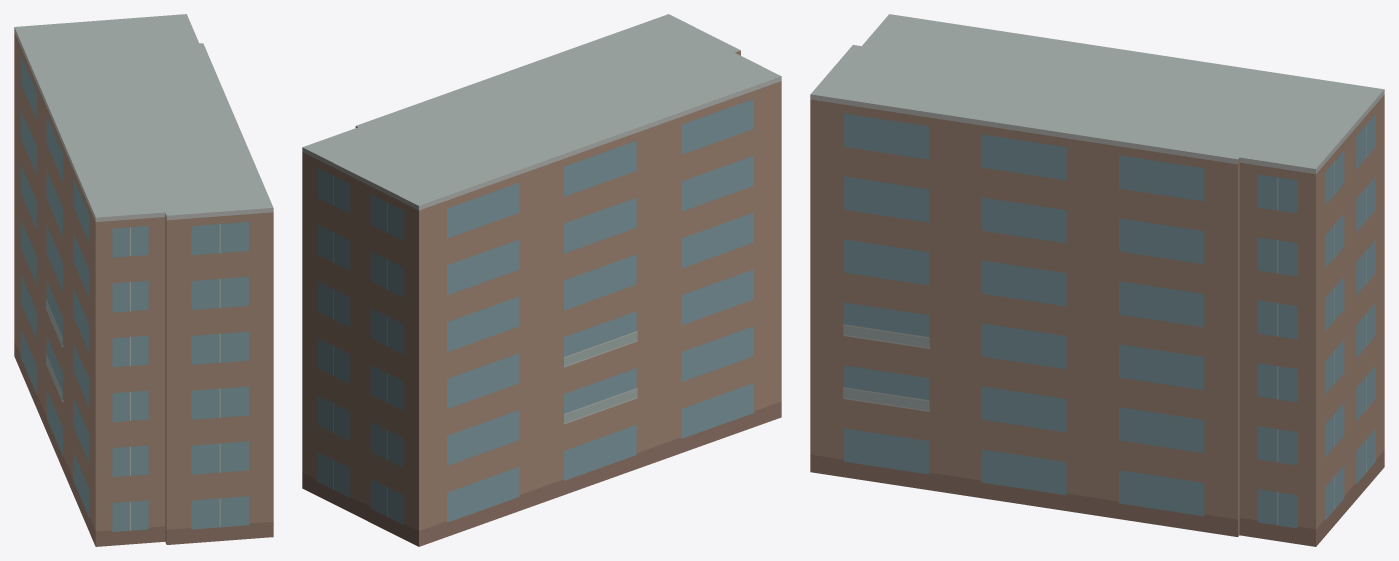
File: survey-upis-33047583.glb
3 renders of one model, left to right at view 1: azimuth 30°, elevation 25°; view 2: azimuth 150°, elevation 25°; view 3: azimuth 270°, elevation 25°, orthographic. The views are drawn at different scales.
Parts seen in each view (by area): view 1: survey-upis-33047583.tmp; view 2: survey-upis-33047583.tmp; view 3: survey-upis-33047583.tmp.
Part boxes in pixels (x1,y1,x2,y2): survey-upis-33047583.tmp: (14,14,273,546); survey-upis-33047583.tmp: (302,14,781,546); survey-upis-33047583.tmp: (810,14,1384,546).
Bounding box in the file's own units: 15.86 × 18 × 24.8.
